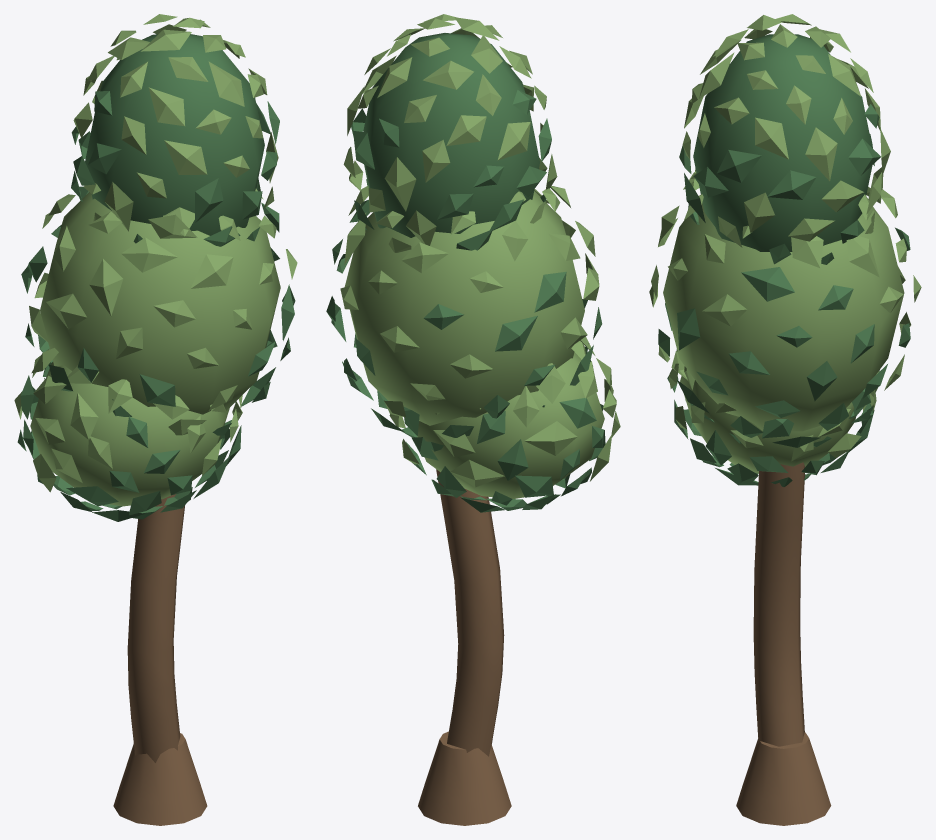
File: tree.tall.glb
3 views of the same model, side by side, from view 1: azimuth 30°, elevation 25°; view 2: azimuth 150°, elevation 25°; view 3: azimuth 270°, elevation 25° (orthographic).
Parts seen in each view (by area): view 1: Root flare; view 2: Root flare; view 3: Root flare.
Boxes of the visible parts, x1=… form: Root flare: x1=14, y1=14, x2=297, y2=825; Root flare: x1=326, y1=14, x2=620, y2=825; Root flare: x1=649, y1=14, x2=921, y2=825.
Size of the model in its own units: 0.8848 by 2.57 by 0.8014.
